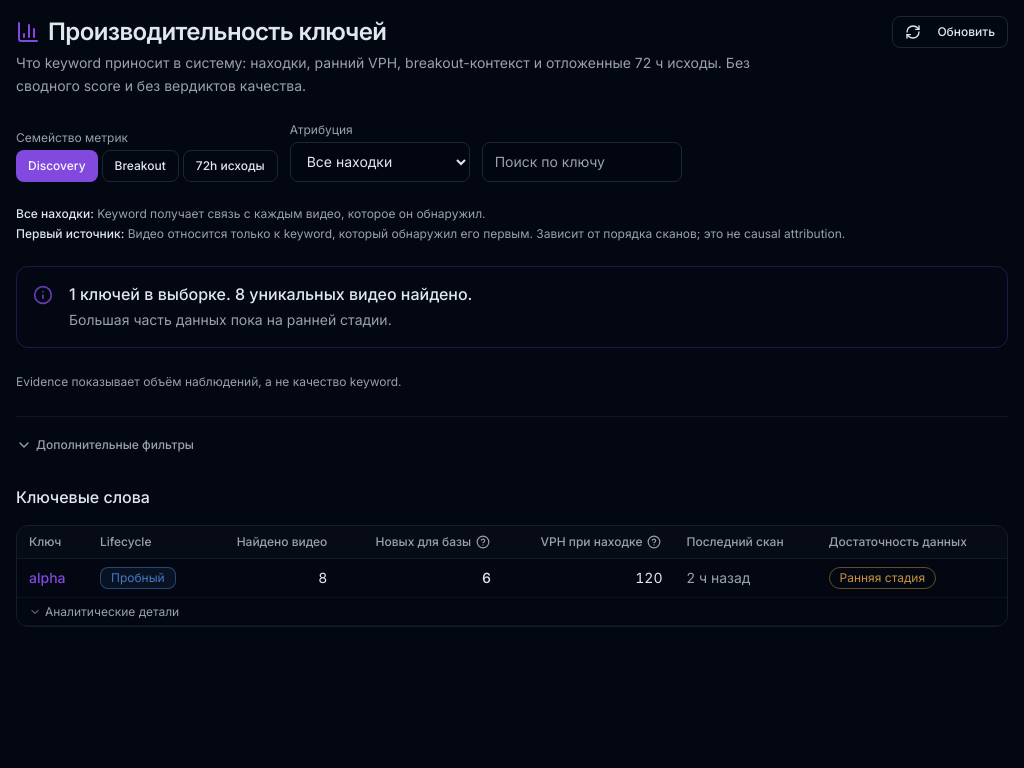
Scenario: KeywordPerformanceDashboard › global eligible N=0 shows unavailable state not poor performance
The width and height of the screenshot is (1024, 768).
Step 1. Click the button with test id "metric-family-breakout" → (140, 166), box [102,150,179,182]
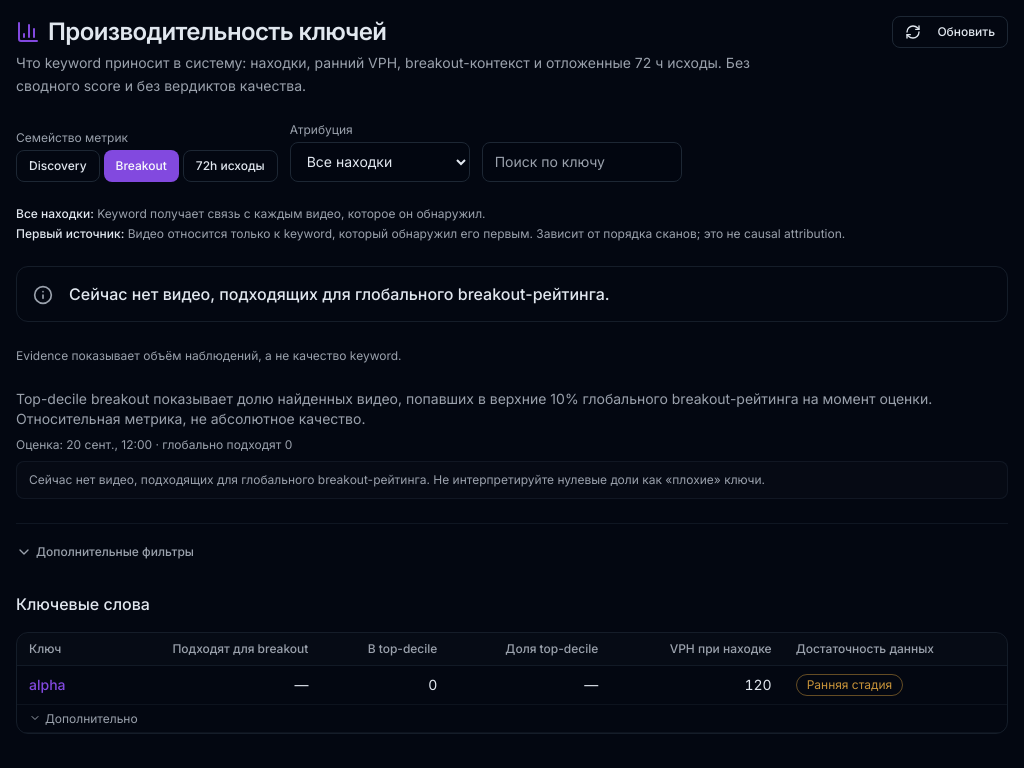
Now the element with test id "breakout-global-unavailable" is shown, box [16,461,1008,498]
Now the element with test id "breakout-table" is shown, box [16,632,1008,734]
Now the text with test id "breakout-rate-1" reads "—", box [584,676,598,692]
